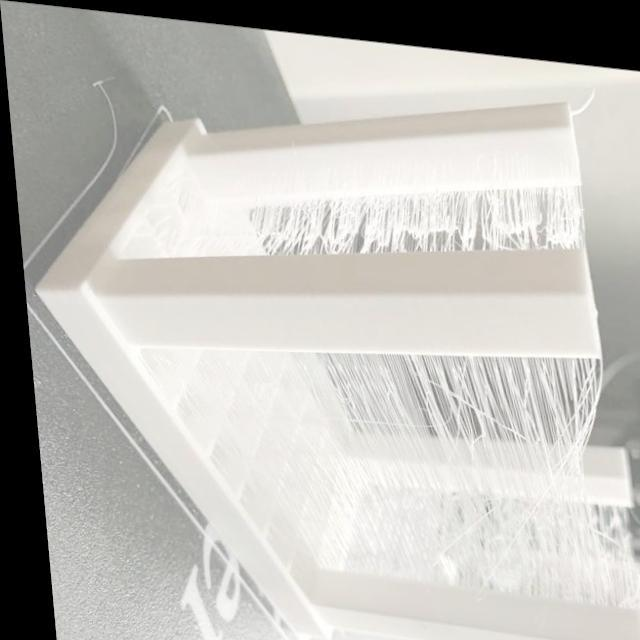stringing: (118, 294, 623, 610)
